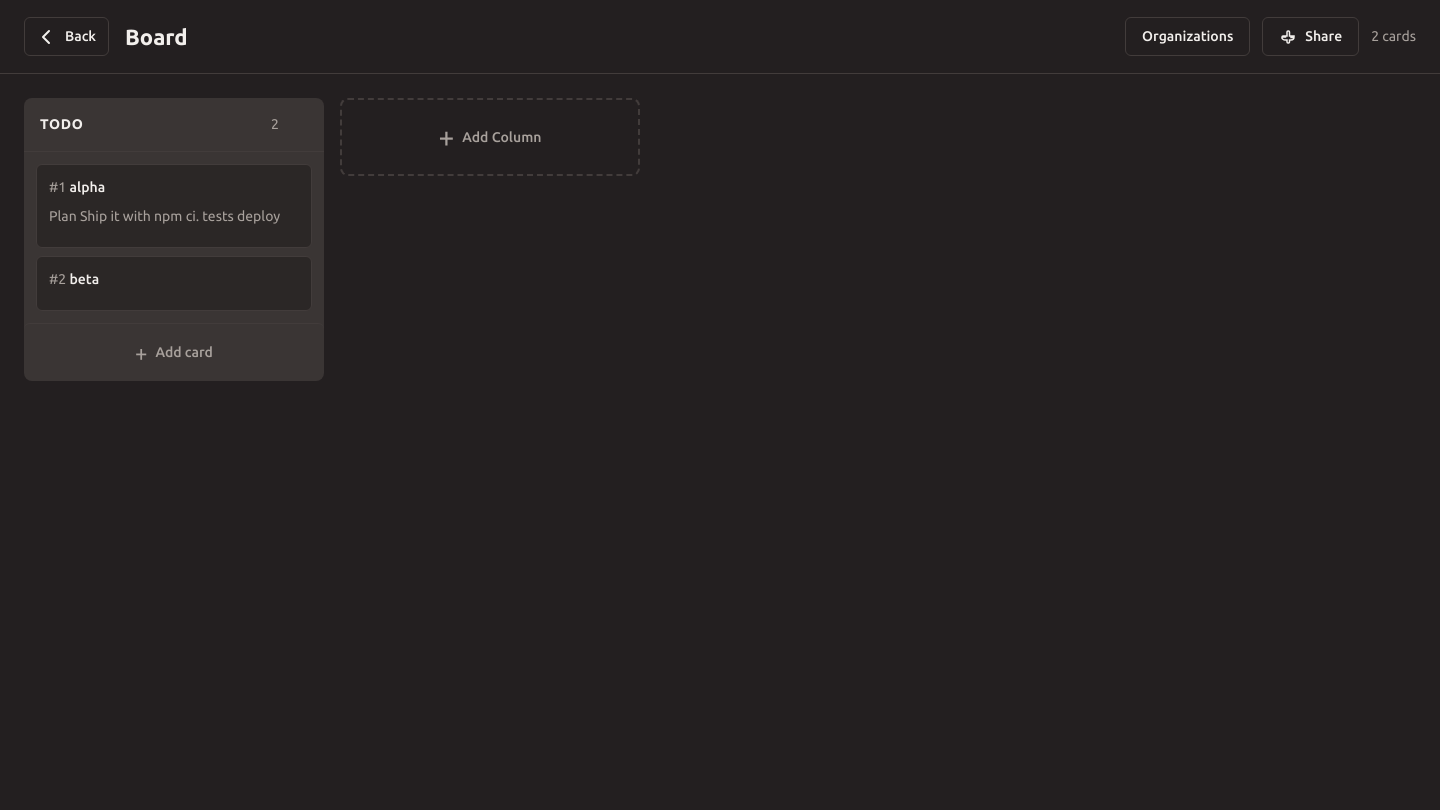
it: an open card › edits the raw Markdown, saves, and shows it rendered again
Click the button "#1 alpha Plan Ship it with npm ci. tests deploy" at (174, 206), box [36,164,312,248]
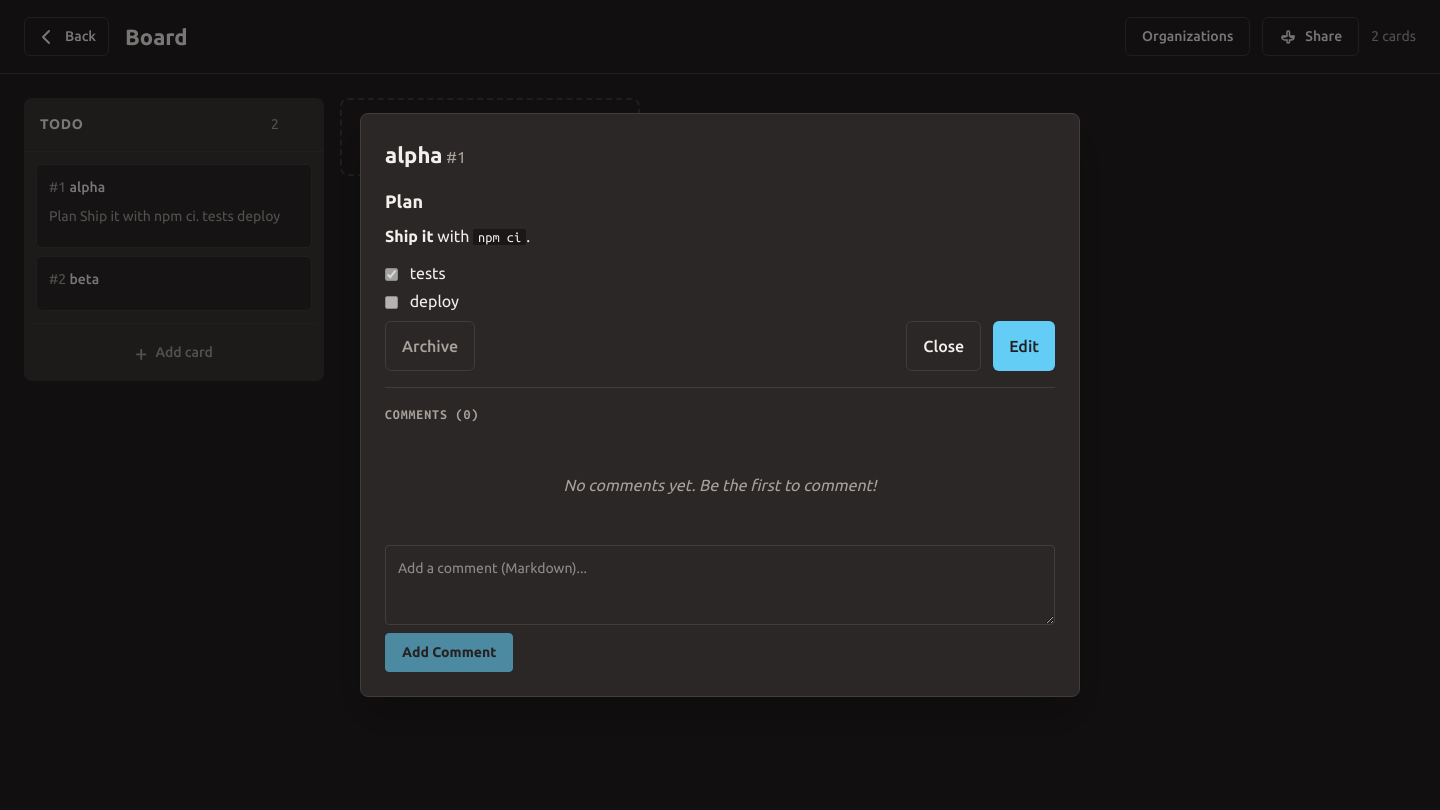
Click the button "Edit" at (1024, 346), box [993,321,1055,371]
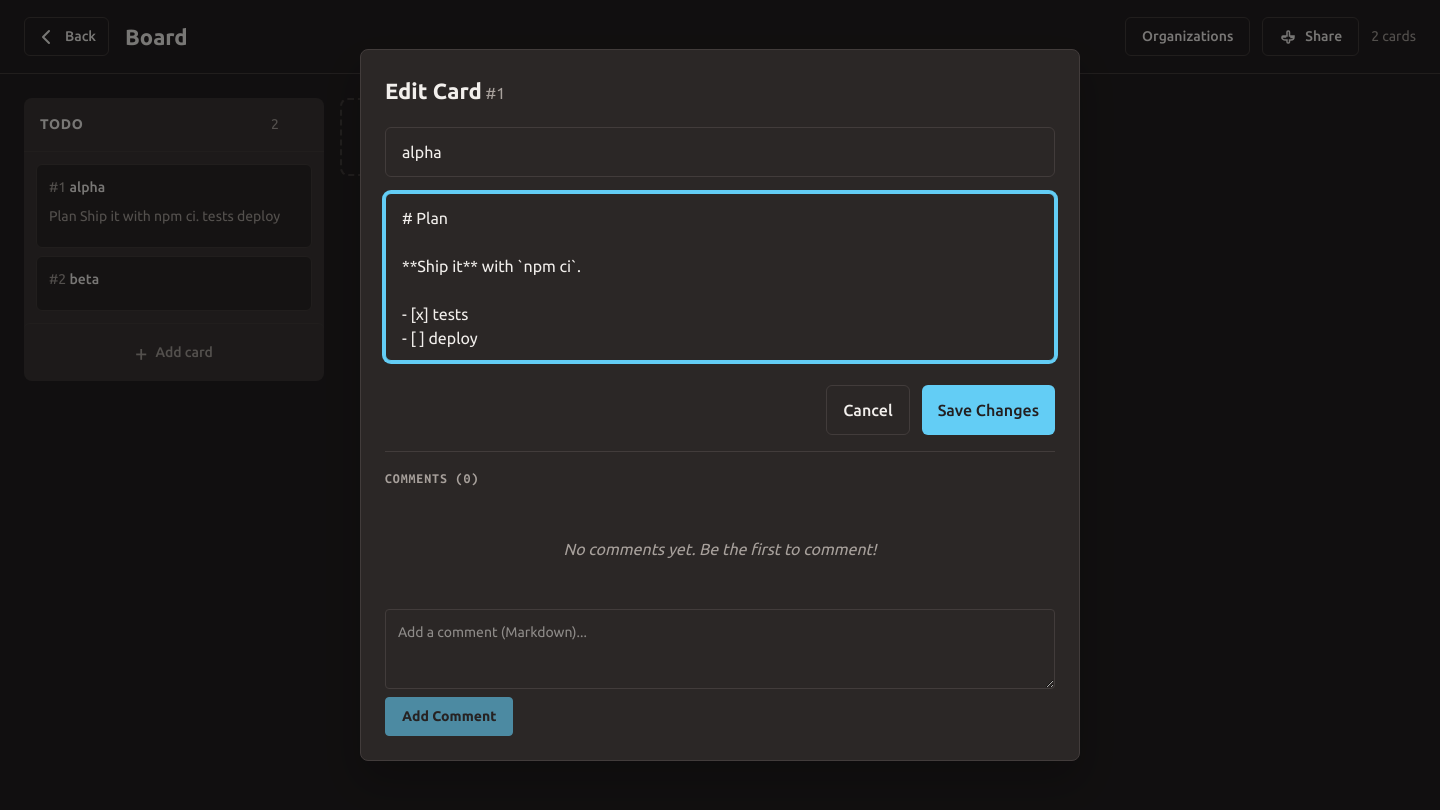
Replace the text in the text box named "Description" with "Now *just* this." at (720, 277), box [385,193,1055,361]
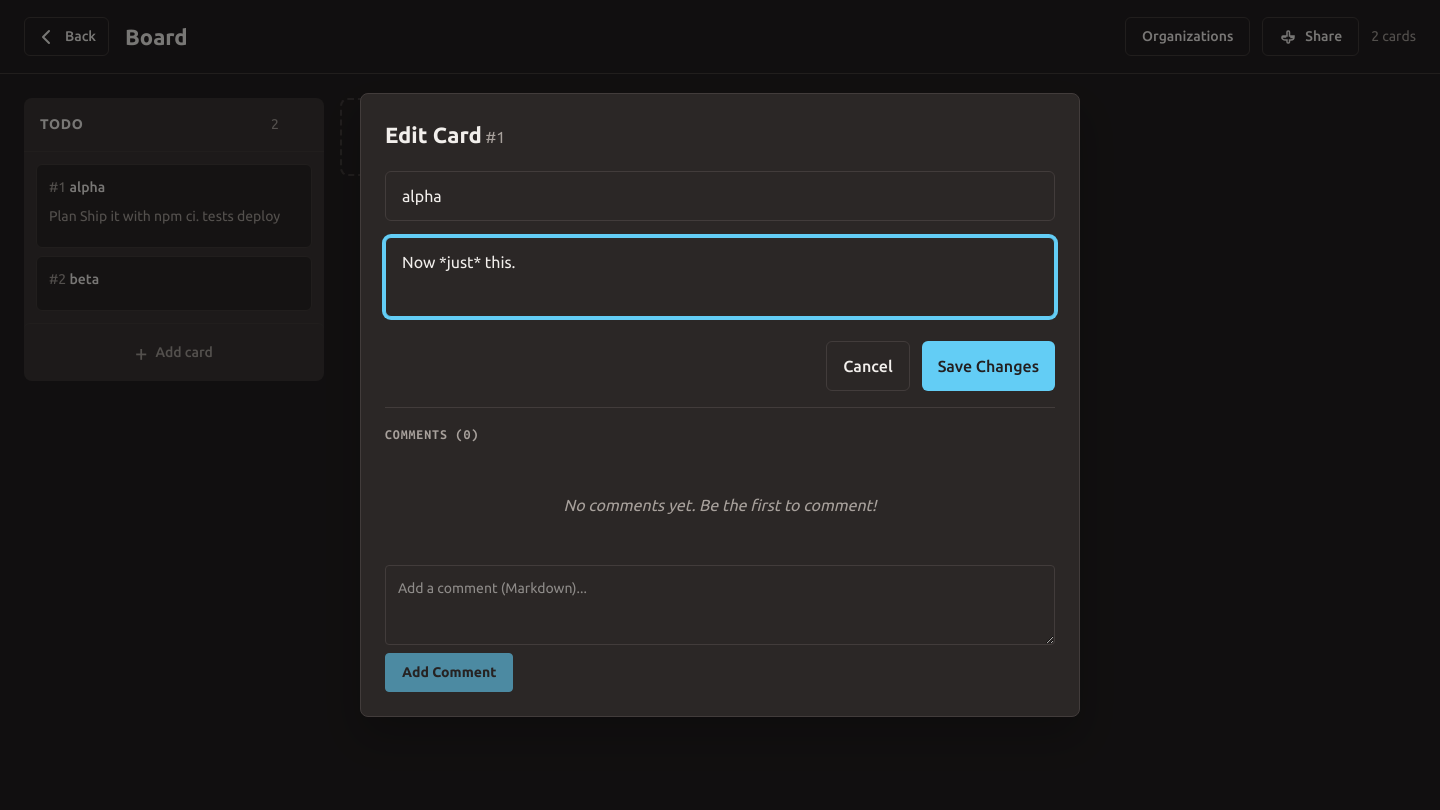
Click the button "Save Changes" at (988, 366), box [922,341,1055,391]
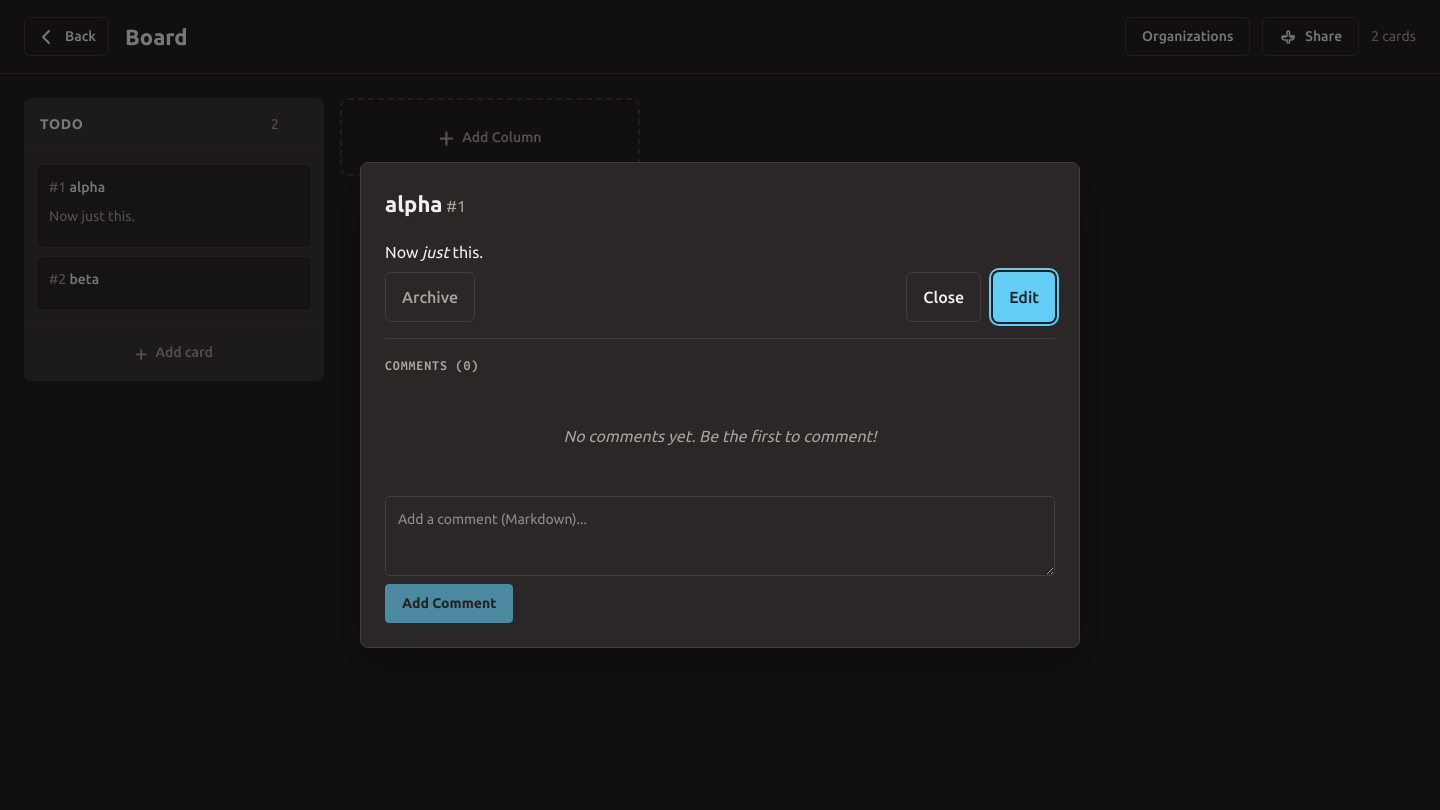
Expected: the text with class "card-description" reads "Now just this.", [49,208,135,224]
